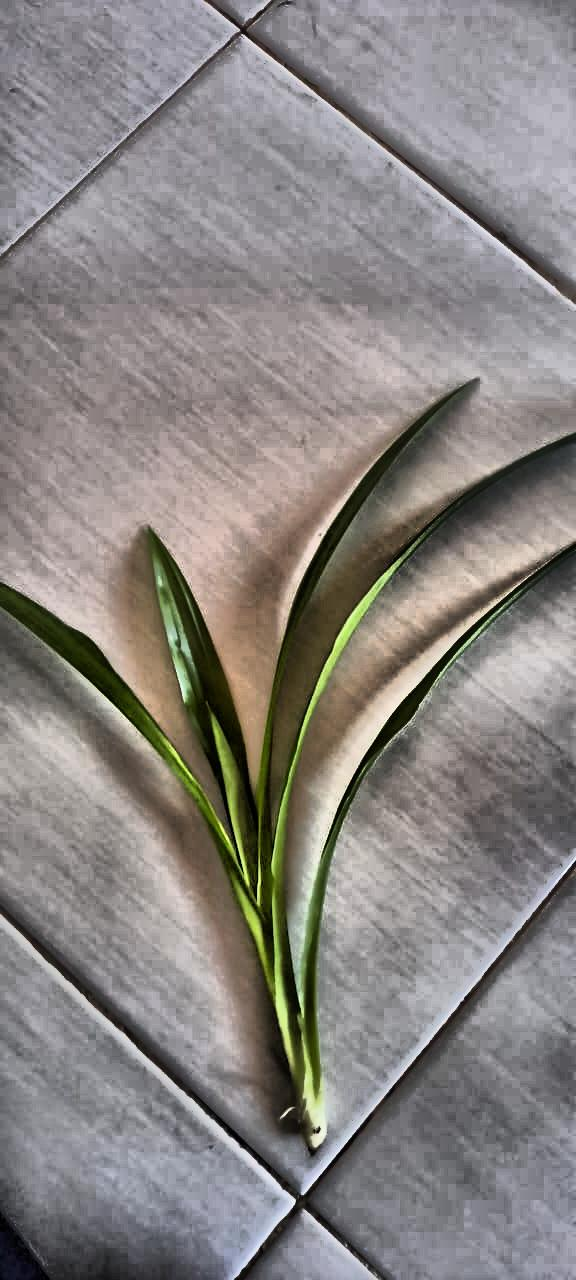daun pandan: (0, 384, 575, 1153)
